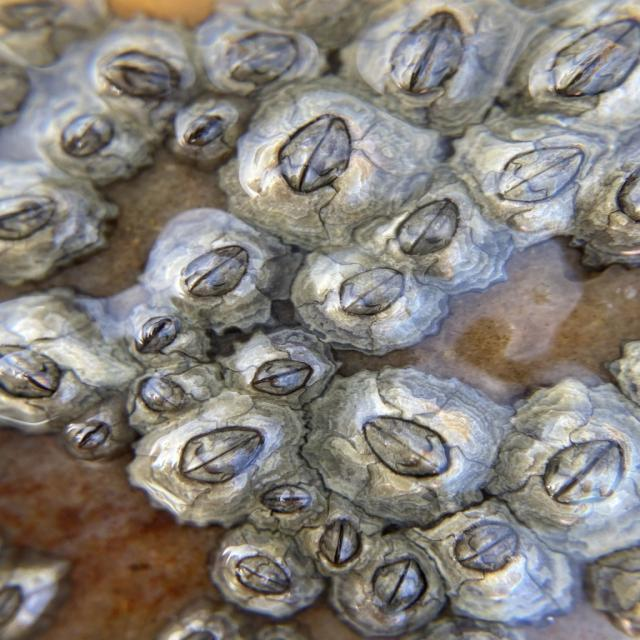barnacles: (234, 90, 409, 223), (330, 378, 500, 511), (337, 0, 511, 122), (510, 375, 640, 529), (464, 122, 604, 246), (510, 0, 639, 132), (299, 241, 447, 343), (140, 404, 298, 498), (369, 190, 527, 283), (458, 518, 590, 626), (0, 303, 113, 426), (0, 167, 117, 285), (146, 212, 283, 310), (82, 20, 195, 118), (195, 20, 327, 100), (204, 544, 339, 620), (45, 104, 148, 188), (228, 341, 342, 406), (356, 552, 444, 630), (234, 472, 338, 534), (111, 305, 214, 365), (299, 514, 382, 576), (126, 368, 218, 423), (170, 100, 247, 165)
